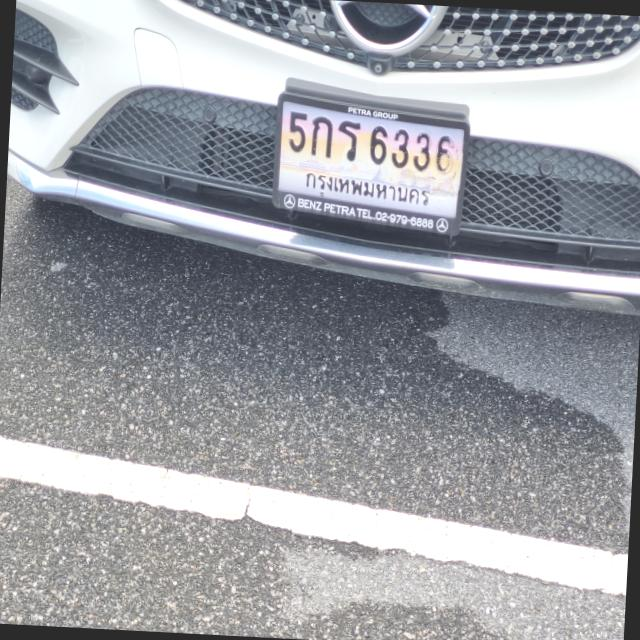license_plate: (270, 80, 468, 236)
